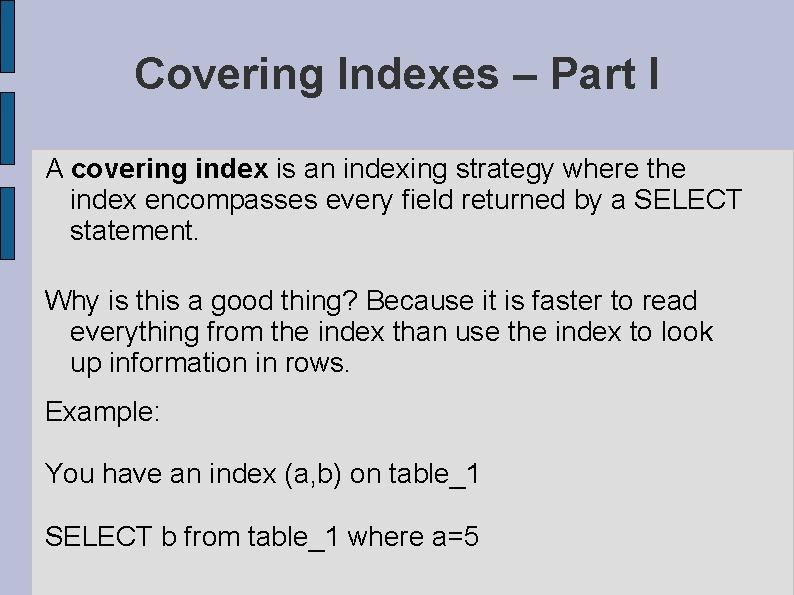paragraph: (40, 149, 773, 569)
subtitle: (72, 149, 274, 187)
title: (131, 33, 668, 106)
